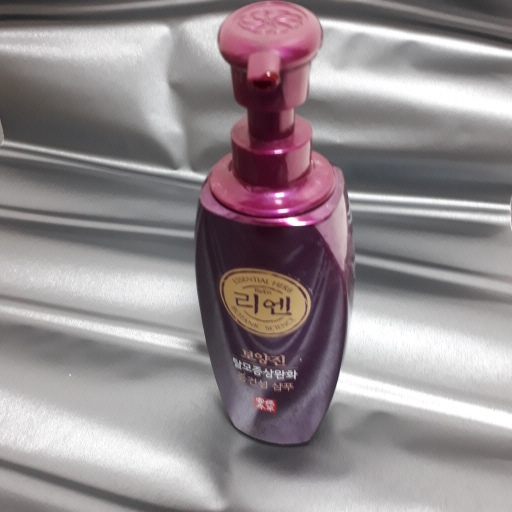Plastic_3: (185, 2, 359, 449)
